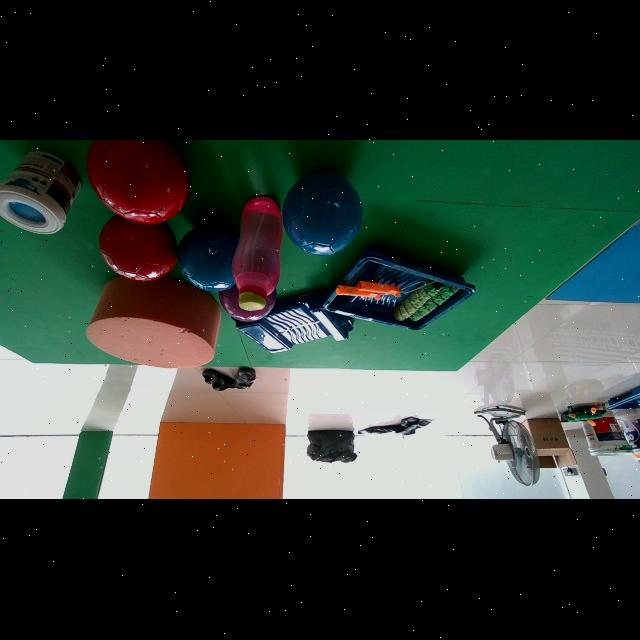B: (283, 172, 362, 256), (178, 225, 239, 292)
P: (218, 287, 277, 323)
R: (87, 140, 189, 224), (100, 216, 177, 282)
